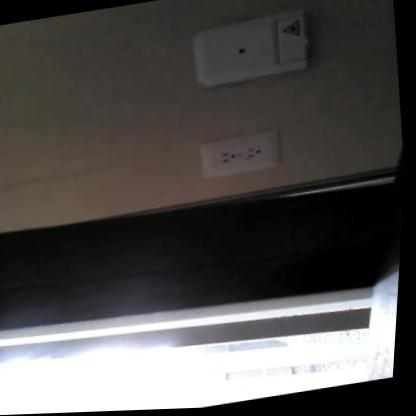OUTLET: (197, 129, 281, 176)
